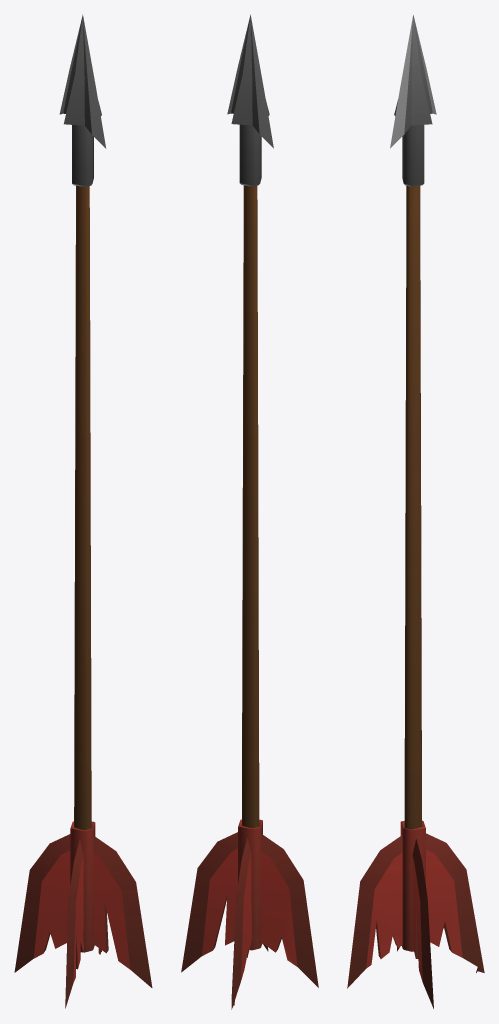
The model's file is Arrow_2_B.glb.
3 views of the same model, side by side, from view 1: azimuth 30°, elevation 25°; view 2: azimuth 210°, elevation 25°; view 3: azimuth 330°, elevation 25° (orthographic).
Visible parts, largest first — view 1: Arrow_2_B; view 2: Arrow_2_B; view 3: Arrow_2_B.
Boxes of the visible parts, box(x1,y1,x2,y2) form: Arrow_2_B: box(14, 14, 152, 1008); Arrow_2_B: box(181, 14, 318, 1009); Arrow_2_B: box(347, 15, 484, 1008).
Bounding box in the file's own units: 0.096 × 1.01 × 0.096.
Materials: 2 (2 with a texture image).
